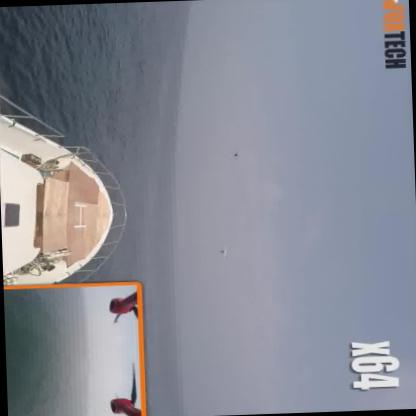drone: (215, 246, 230, 261)
